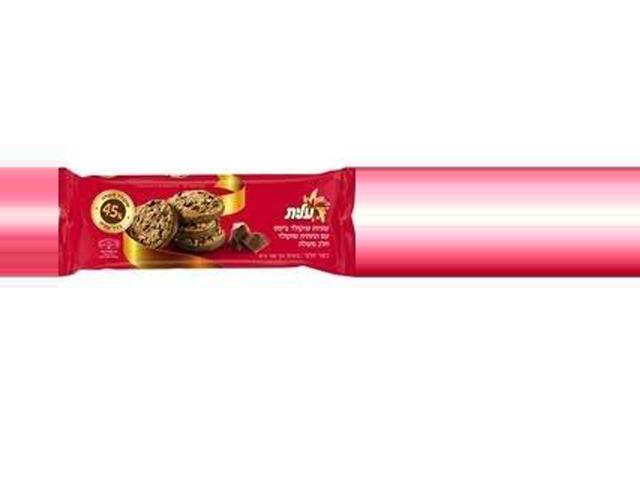chocolate: (62, 170, 357, 285)
